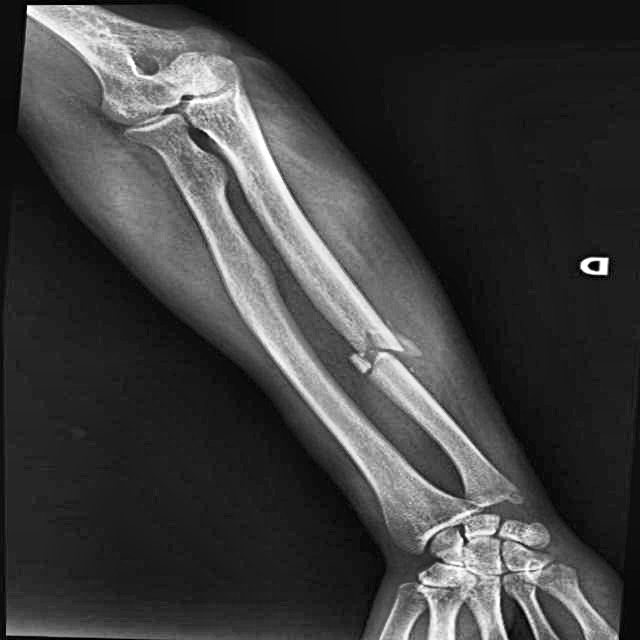Comminuted: (320, 317, 458, 395)
